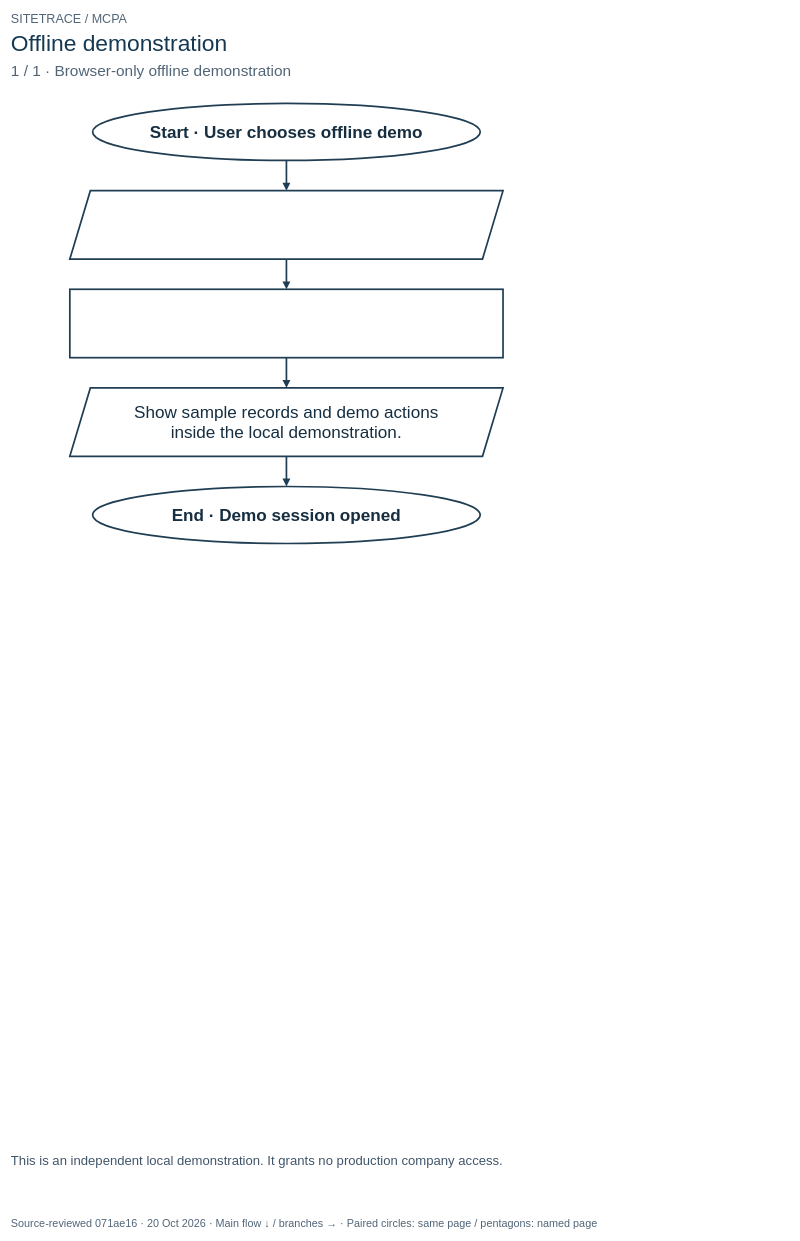
The diagram is 800 pixels wide and 1241 high, and some of its shapes have lost their labels. Each missing label, with the centre of its shape:
Choose Admin, Engineer or Architect demo identity from the login page.: the point at 286,225
Initialize browser-only demo state and enter the selected role view.: the point at 286,323
